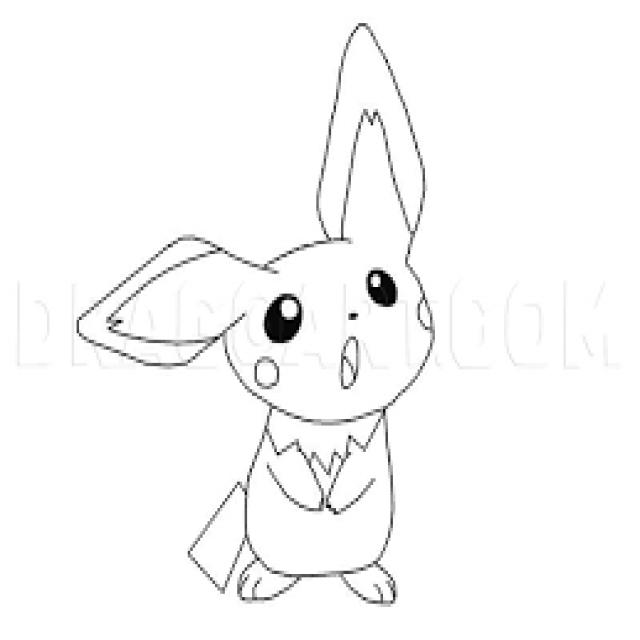pichu: (74, 23, 503, 626)
